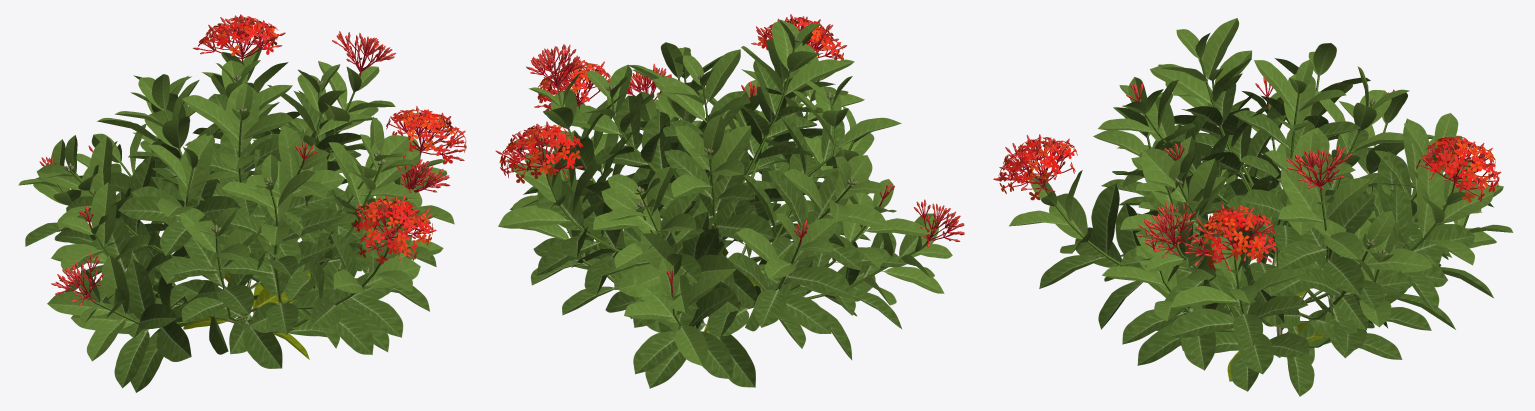
Rendered from massif_ixora.glb.
3 renders of one model, left to right at view 1: azimuth 30°, elevation 25°; view 2: azimuth 150°, elevation 25°; view 3: azimuth 270°, elevation 25°, orthographic. The views are drawn at different scales.
Parts seen in each view (by area): view 1: Ixora_chinensis_red_HD_Ixora leaf 01a_0, Ixora_chinensis_red_HD_Ixora leaf 01d_0, Ixora_chinensis_red_HD_Ixora tube_0, Ixora_chinensis_red_HD_Ixora flower 01_0, Ixora_chinensis_red_HD_Ixora flower 02_0, Ixora_chinensis_red_HD_Ixora twig_0, Ixora_chinensis_red_HD_Ixora flower 03_0, Ixora_chinensis_red_HD_Ixora leaf 01e_0, Ixora_chinensis_red_HD_Ixora flower stalk 2_0, Ixora_chinensis_red_HD_Ixora branches_0, Ixora_chinensis_red_HD_Ixora bud_0; view 2: Ixora_chinensis_red_HD_Ixora leaf 01d_0, Ixora_chinensis_red_HD_Ixora leaf 01a_0, Ixora_chinensis_red_HD_Ixora tube_0, Ixora_chinensis_red_HD_Ixora twig_0, Ixora_chinensis_red_HD_Ixora flower 01_0, Ixora_chinensis_red_HD_Ixora flower 02_0, Ixora_chinensis_red_HD_Ixora flower 03_0, Ixora_chinensis_red_HD_Ixora flower stalk 2_0, Ixora_chinensis_red_HD_Ixora branches_0; view 3: Ixora_chinensis_red_HD_Ixora leaf 01d_0, Ixora_chinensis_red_HD_Ixora leaf 01a_0, Ixora_chinensis_red_HD_Ixora tube_0, Ixora_chinensis_red_HD_Ixora flower 02_0, Ixora_chinensis_red_HD_Ixora flower 01_0, Ixora_chinensis_red_HD_Ixora flower 03_0, Ixora_chinensis_red_HD_Ixora twig_0, Ixora_chinensis_red_HD_Ixora branches_0, Ixora_chinensis_red_HD_Ixora flower stalk 2_0.
Boxes of the visible parts, left/top/right/bottom form: Ixora_chinensis_red_HD_Ixora leaf 01a_0: left=18, top=46, right=454, bottom=361; Ixora_chinensis_red_HD_Ixora leaf 01d_0: left=25, top=90, right=436, bottom=392; Ixora_chinensis_red_HD_Ixora tube_0: left=39, top=14, right=465, bottom=306; Ixora_chinensis_red_HD_Ixora flower 01_0: left=207, top=16, right=465, bottom=264; Ixora_chinensis_red_HD_Ixora flower 02_0: left=203, top=16, right=466, bottom=261; Ixora_chinensis_red_HD_Ixora twig_0: left=57, top=82, right=415, bottom=324; Ixora_chinensis_red_HD_Ixora flower 03_0: left=198, top=17, right=456, bottom=254; Ixora_chinensis_red_HD_Ixora leaf 01e_0: left=183, top=271, right=310, bottom=359; Ixora_chinensis_red_HD_Ixora flower stalk 2_0: left=69, top=37, right=447, bottom=297; Ixora_chinensis_red_HD_Ixora branches_0: left=152, top=240, right=326, bottom=333; Ixora_chinensis_red_HD_Ixora bud_0: left=63, top=74, right=385, bottom=233; Ixora_chinensis_red_HD_Ixora leaf 01d_0: left=510, top=60, right=906, bottom=388; Ixora_chinensis_red_HD_Ixora leaf 01a_0: left=498, top=19, right=952, bottom=366; Ixora_chinensis_red_HD_Ixora tube_0: left=495, top=14, right=964, bottom=285; Ixora_chinensis_red_HD_Ixora twig_0: left=549, top=43, right=921, bottom=326; Ixora_chinensis_red_HD_Ixora flower 01_0: left=500, top=18, right=842, bottom=179; Ixora_chinensis_red_HD_Ixora flower 02_0: left=499, top=20, right=843, bottom=183; Ixora_chinensis_red_HD_Ixora flower 03_0: left=502, top=17, right=834, bottom=177; Ixora_chinensis_red_HD_Ixora flower stalk 2_0: left=519, top=40, right=945, bottom=291; Ixora_chinensis_red_HD_Ixora branches_0: left=615, top=158, right=798, bottom=332; Ixora_chinensis_red_HD_Ixora leaf 01d_0: left=1039, top=83, right=1494, bottom=396; Ixora_chinensis_red_HD_Ixora leaf 01a_0: left=1009, top=18, right=1513, bottom=327; Ixora_chinensis_red_HD_Ixora tube_0: left=993, top=77, right=1501, bottom=270; Ixora_chinensis_red_HD_Ixora flower 02_0: left=998, top=137, right=1499, bottom=269; Ixora_chinensis_red_HD_Ixora flower 01_0: left=999, top=136, right=1498, bottom=262; Ixora_chinensis_red_HD_Ixora flower 03_0: left=1003, top=136, right=1496, bottom=251; Ixora_chinensis_red_HD_Ixora twig_0: left=1055, top=57, right=1469, bottom=314; Ixora_chinensis_red_HD_Ixora branches_0: left=1217, top=171, right=1330, bottom=357; Ixora_chinensis_red_HD_Ixora flower stalk 2_0: left=1020, top=96, right=1479, bottom=258.
Bounding box in the file's own units: 0.7803 × 0.5722 × 0.8311.
12 materials, 12 textured.
